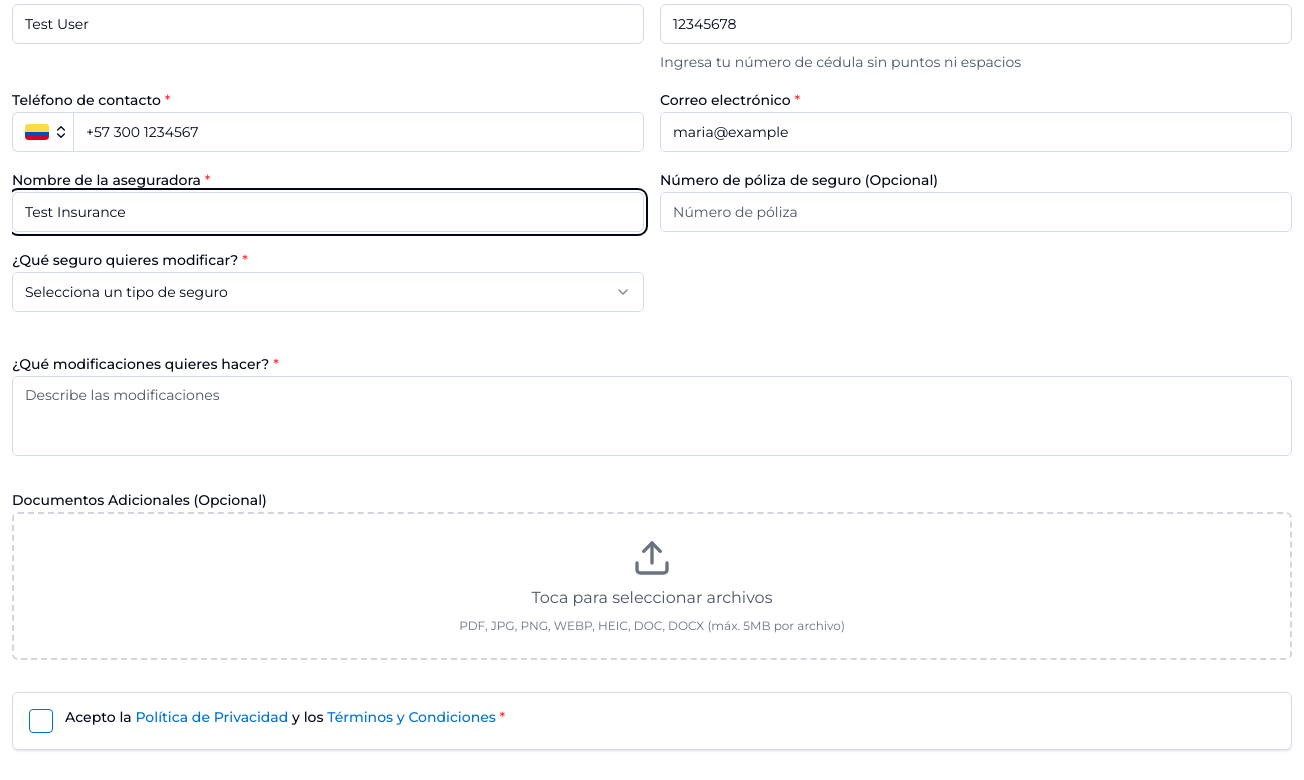
it: ModificationForm › Form Validation › validates the email on submit and clears its error as soon as it is fixed
Earlier steps of the test are not shown.
In the text box labelled "¿Qué modificaciones quieres hacer? *": point(652, 416) [12, 376, 1292, 456], type "Test modification"
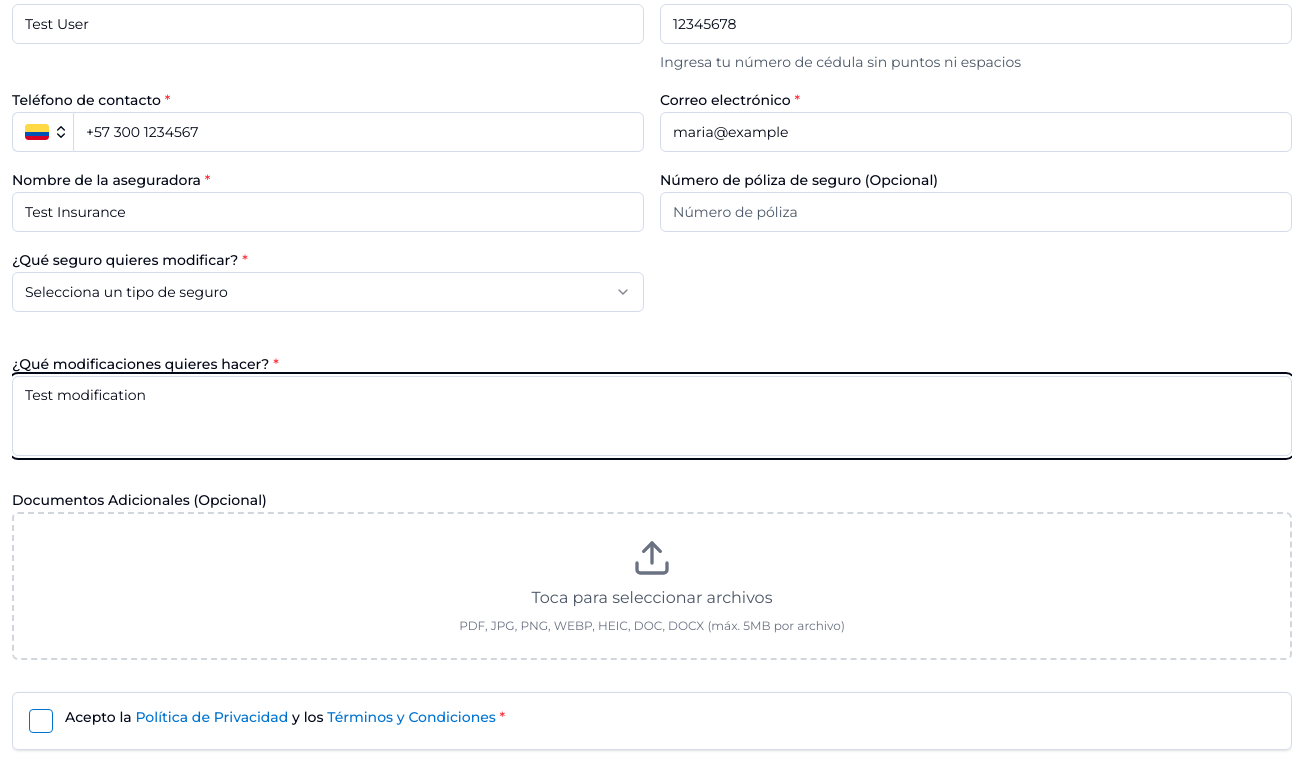
Click the dropdown: point(126, 292) [12, 272, 644, 312]
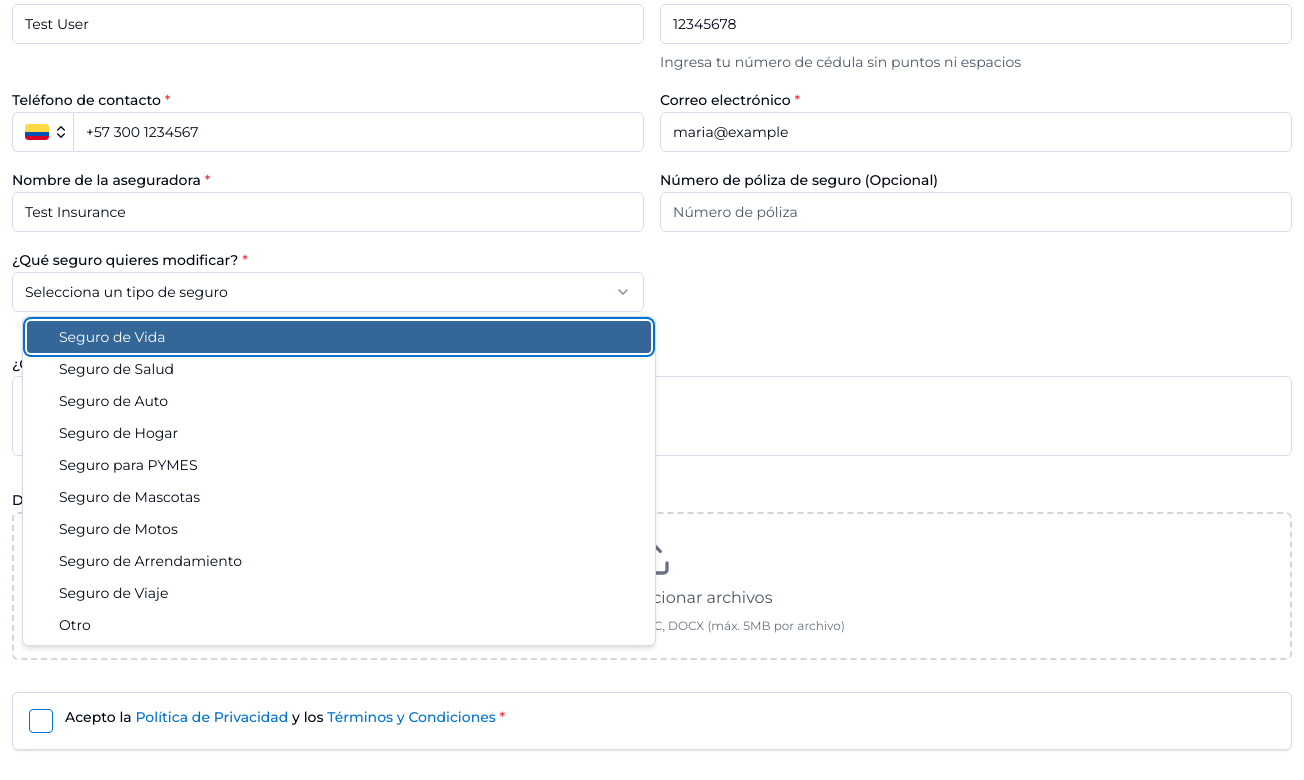
Click the option "Seguro de Auto": point(114, 401) [59, 392, 168, 410]
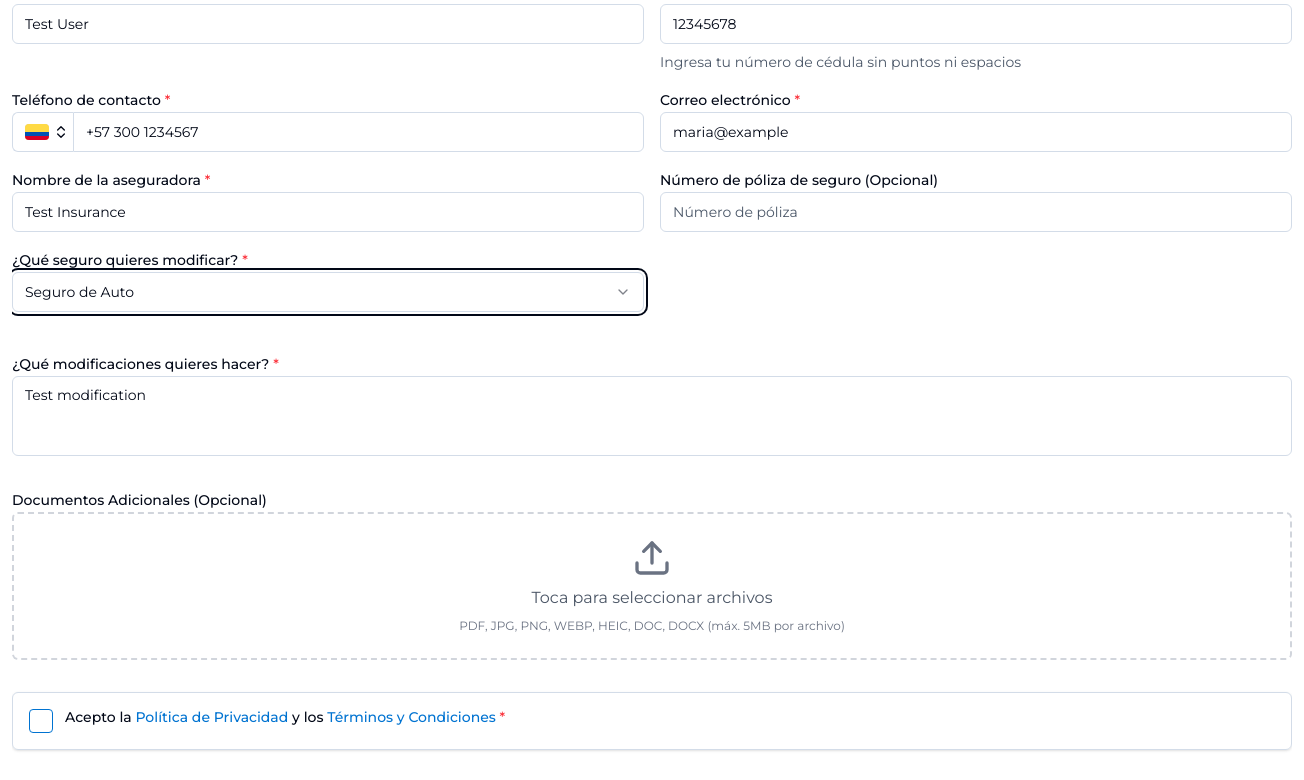
Click the checkbox named "acepto la política": point(41, 721) [29, 709, 53, 733]
(page scrolled)
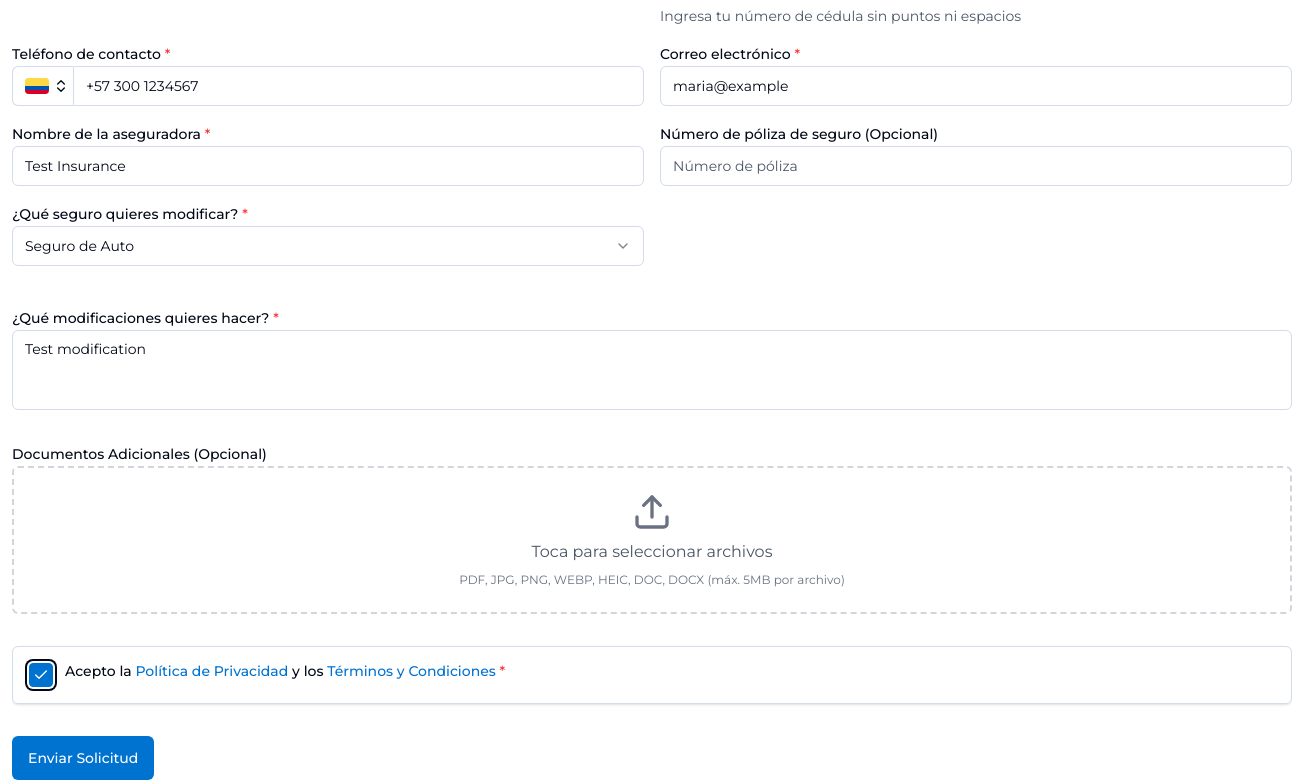
Click the button "Enviar Solicitud": point(83, 758) [12, 736, 154, 779]
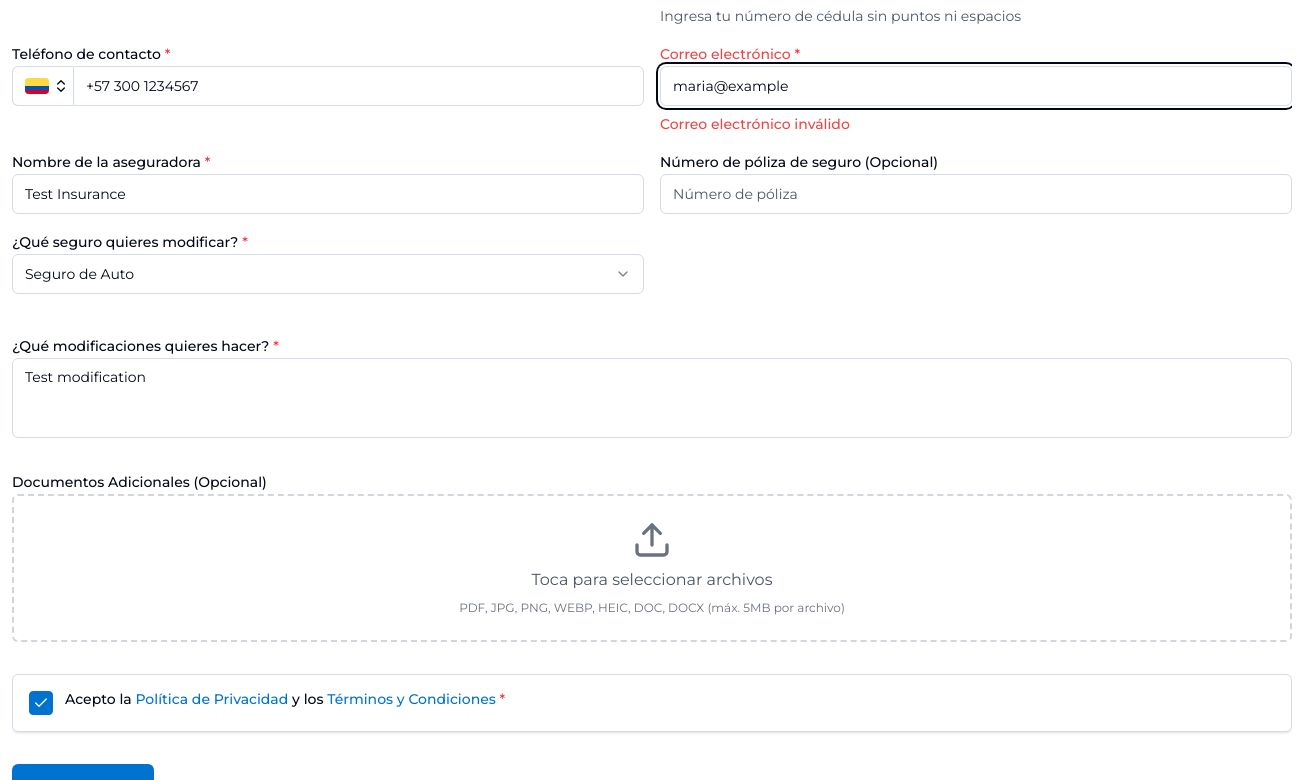
Now the text "Correo electrónico inválido" is shown, box [660, 115, 850, 133]
Clear the field labelled "Correo electrónico *": point(976, 86) [660, 66, 1292, 106]
Type keys "test@example.com"
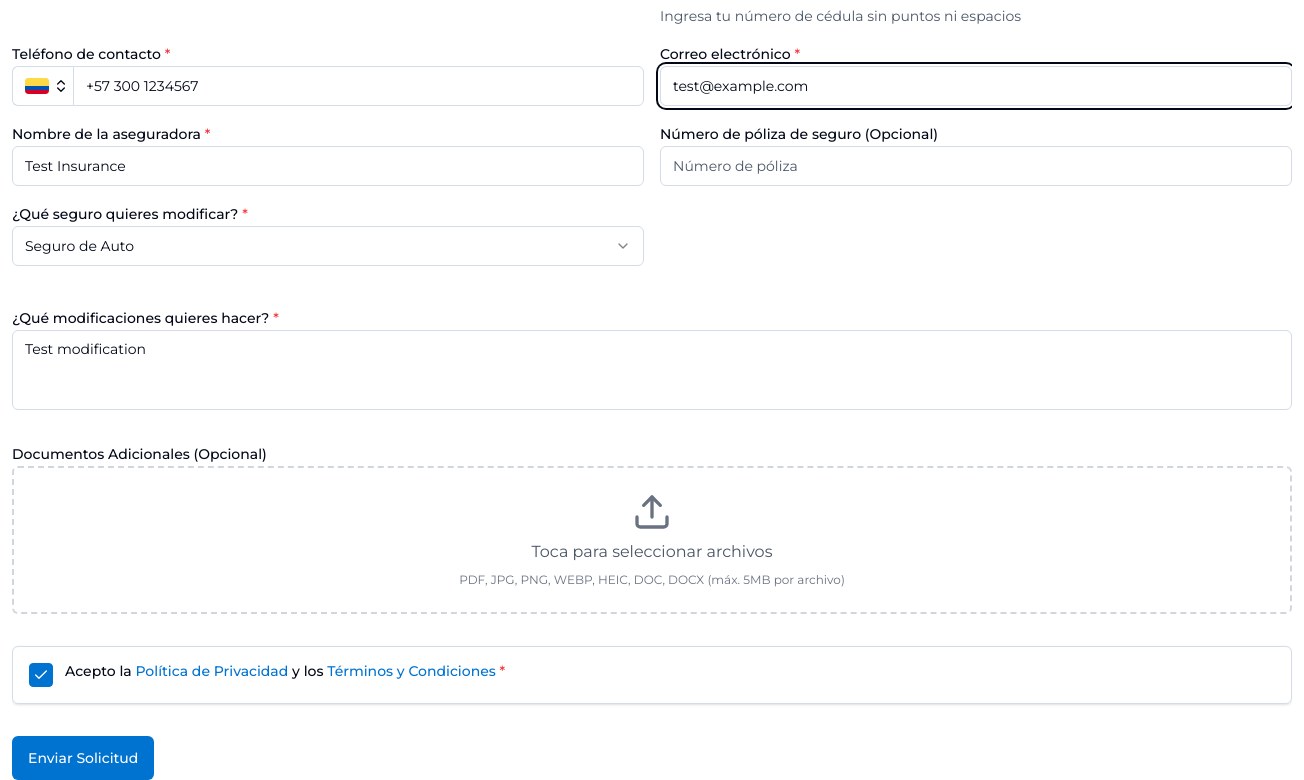
Now the text "Correo electrónico inválido" is gone
